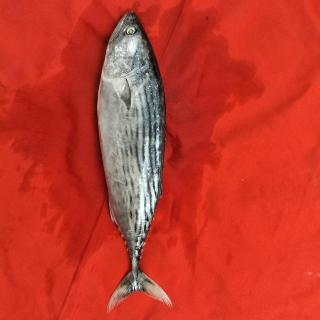Ikan: (82, 13, 184, 315)
